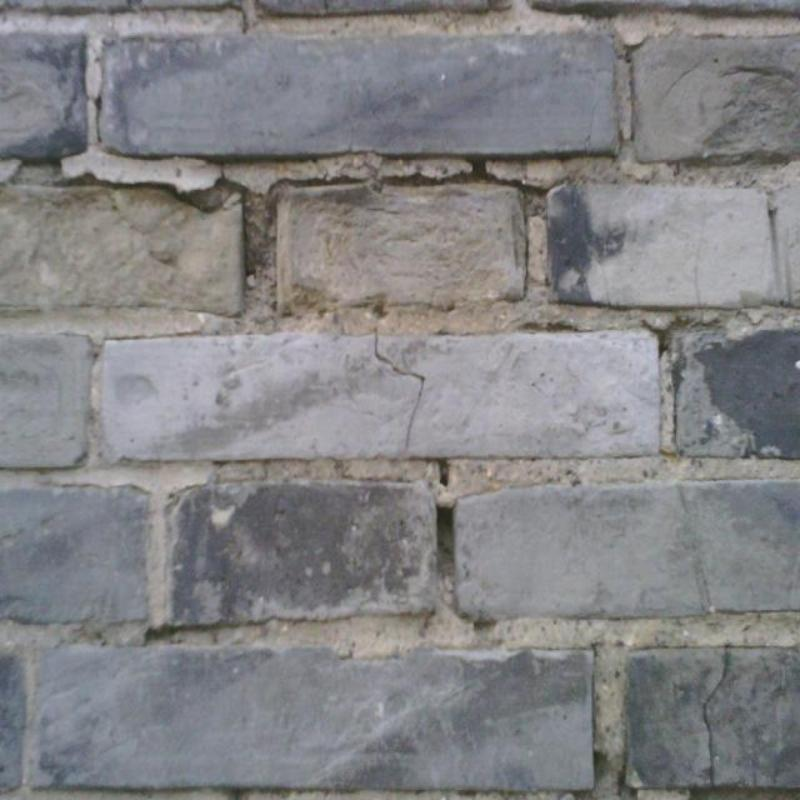pothole: (8, 159, 258, 278), (373, 338, 427, 451), (380, 159, 550, 192), (701, 649, 732, 789), (268, 175, 366, 192), (434, 509, 454, 569), (230, 4, 249, 32), (148, 624, 176, 639), (656, 330, 668, 358), (95, 95, 102, 142), (440, 460, 449, 486), (592, 750, 601, 771)
